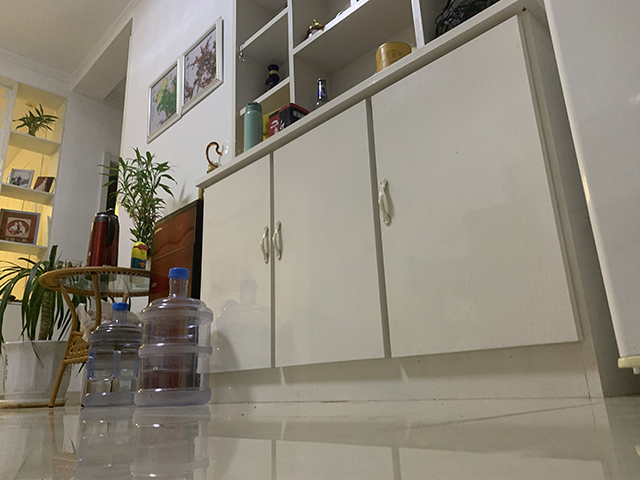cabinet: (194, 3, 608, 397)
table: (38, 266, 150, 408)
